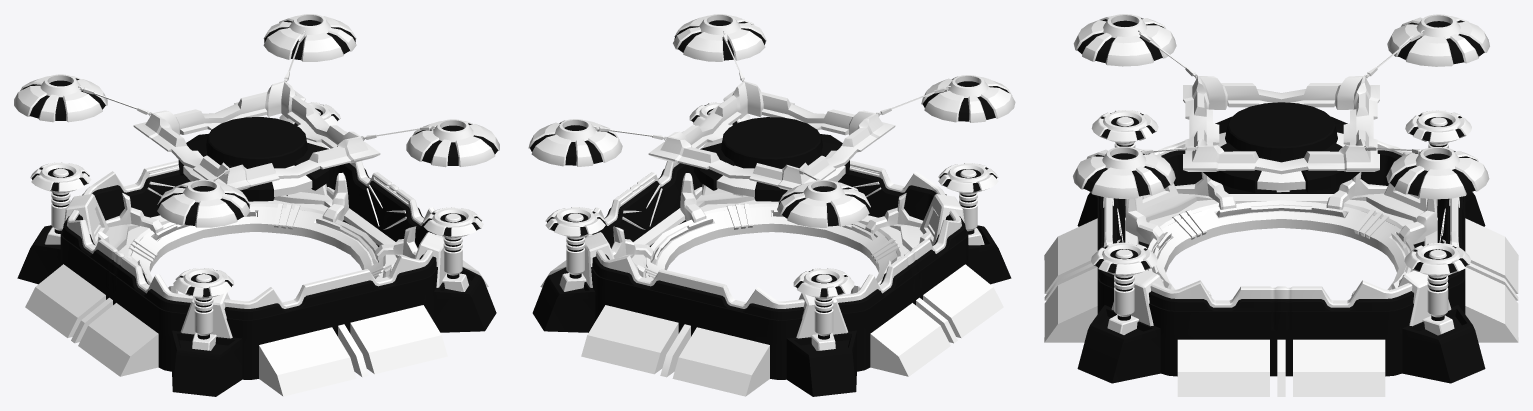
File: arenasquare.fbx
The picture shows the model from 3 angles, left to right: view 1: azimuth 30°, elevation 25°; view 2: azimuth 150°, elevation 25°; view 3: azimuth 270°, elevation 25°; orthographic projection. The views are drawn at different scales.
Visible parts, largest first — view 1: arena, spotlights1, details01, glow; view 2: arena, spotlights1, details01, glow; view 3: arena, spotlights1, details01, glow.
Part boxes in pixels (x1,y1,x2,y2): arena: (17,160,496,396); spotlights1: (14,14,499,350); details01: (64,172,446,338); glow: (90,165,408,285); arena: (532,160,1011,396); spotlights1: (528,14,1015,350); details01: (582,173,964,338); glow: (620,166,938,285); arena: (1044,140,1518,396); spotlights1: (1073,14,1489,335); details01: (1111,151,1451,326); glow: (1117,189,1445,289).
Size of the model in its own units: 35.53 by 17.84 by 36.26.
Materials: 5 (2 with a texture image).
